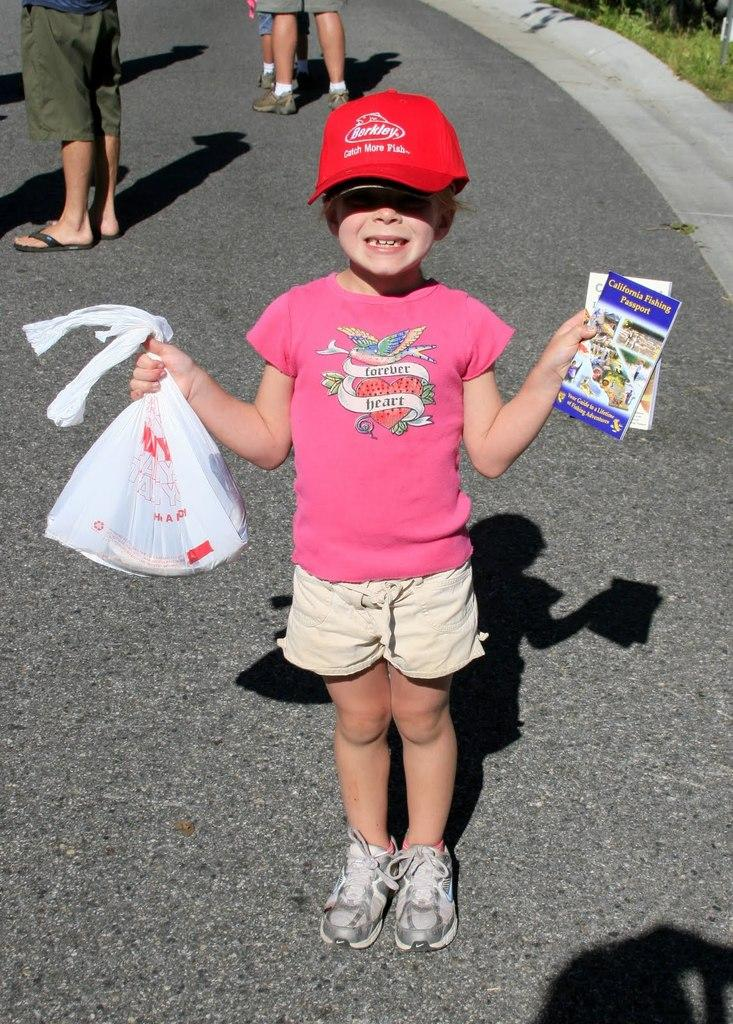Hat: (310, 87, 470, 203)
